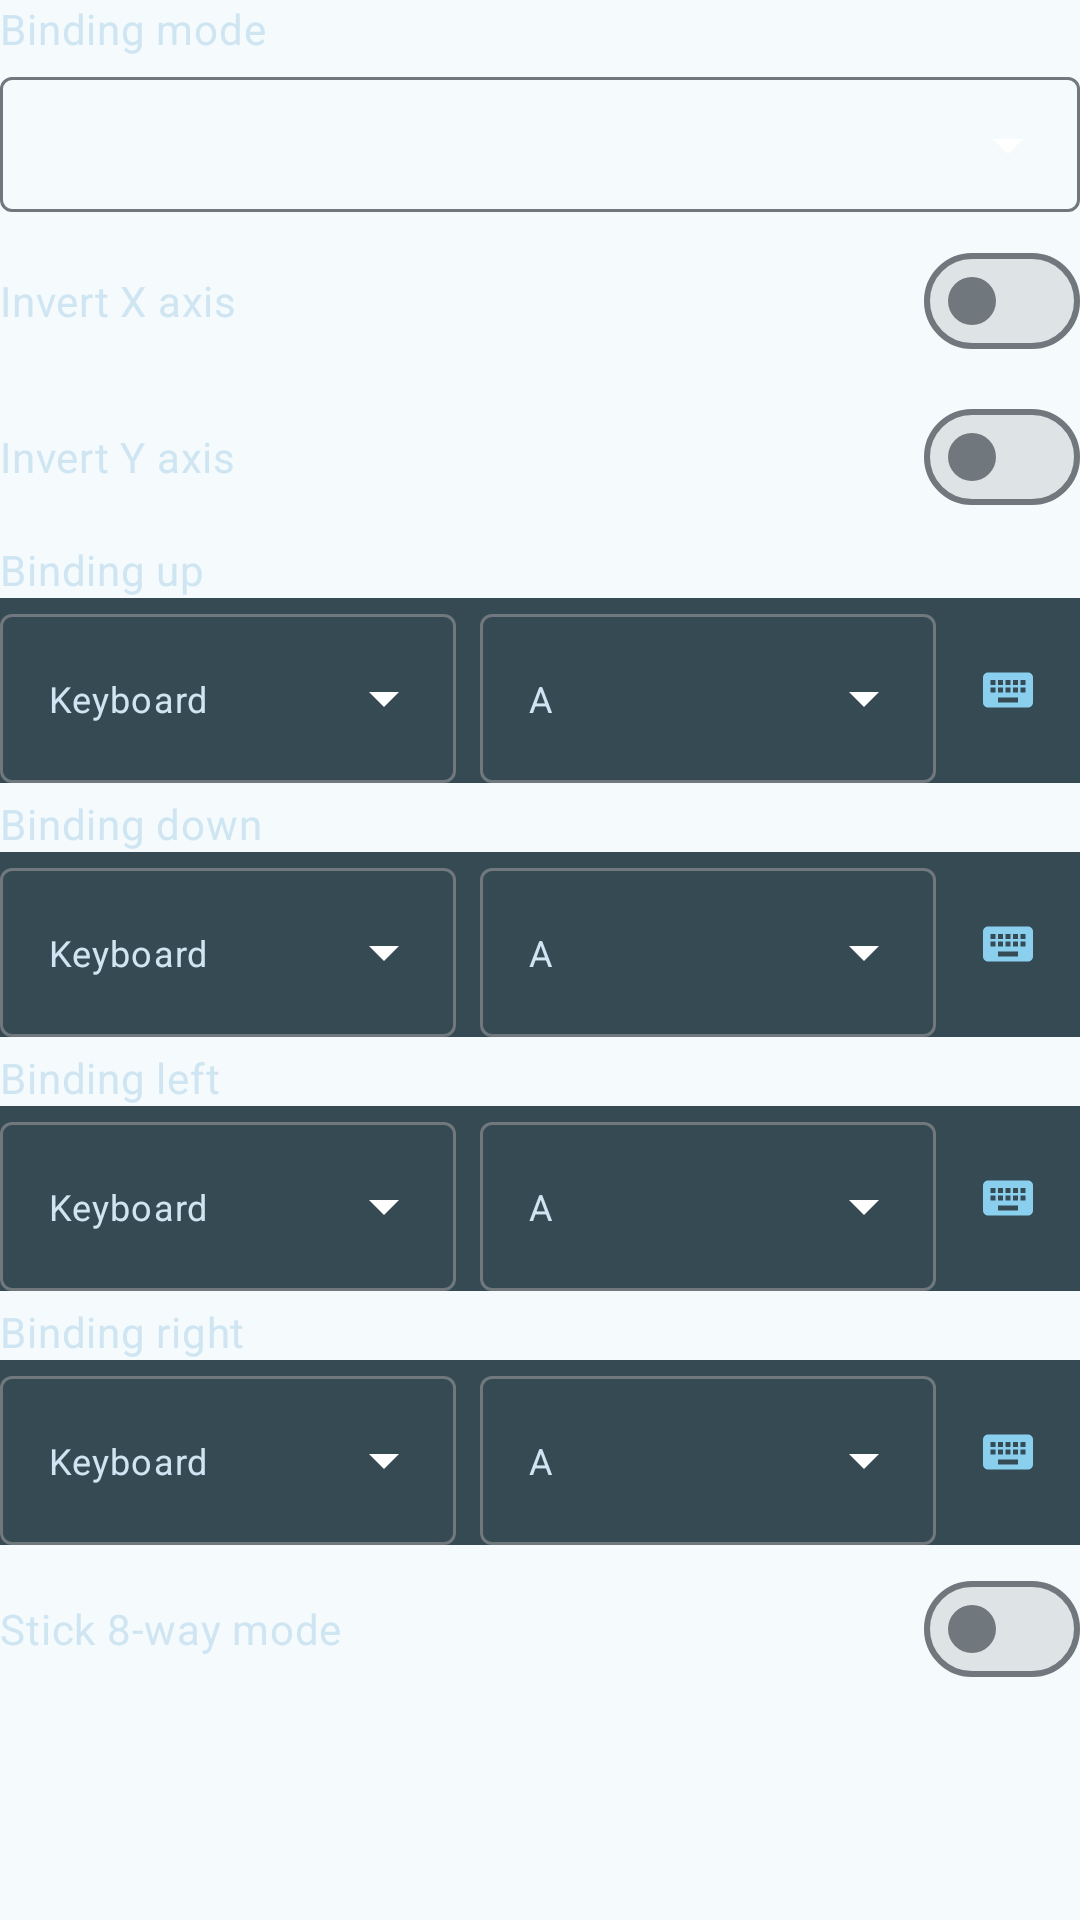

Icons on this 1080px x 1920px Android screen, each with the point to tap as point (x, y):
keyboard: point (1008, 690), point (1008, 944), point (1008, 1198), point (1008, 1452)
